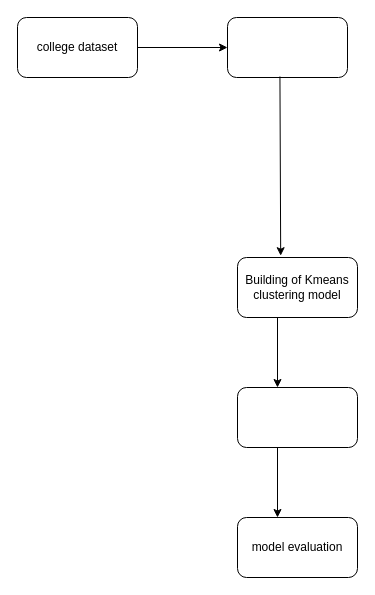
The diagram is 375 pixels wide and 595 high, and some of its shapes have lost their labels. The shapes that lost their labels are listed below. From the top down, each one's centre as x and y in pixels, then its label:
At point 287,47: "Exploratory data analysis".
At point 297,417: "model training and testing".
